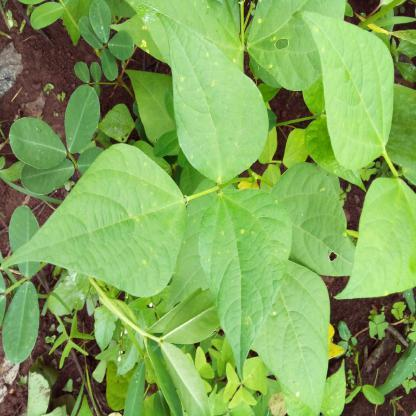Beans_Rust: (0, 141, 186, 294), (152, 12, 270, 188), (195, 191, 283, 377), (255, 257, 334, 412), (247, 0, 346, 97), (275, 166, 357, 278), (115, 10, 152, 53)
